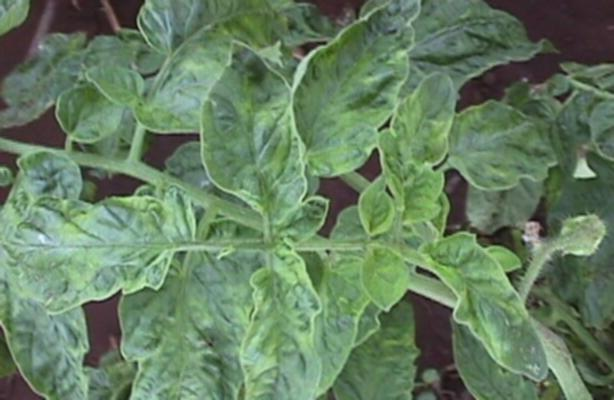Tomato leaf mosaic virus: (298, 0, 431, 183), (11, 192, 190, 311), (201, 41, 309, 231), (423, 234, 549, 388), (235, 254, 325, 400), (382, 69, 455, 224), (447, 104, 569, 190), (138, 288, 224, 400), (361, 242, 411, 313), (89, 58, 147, 105)
